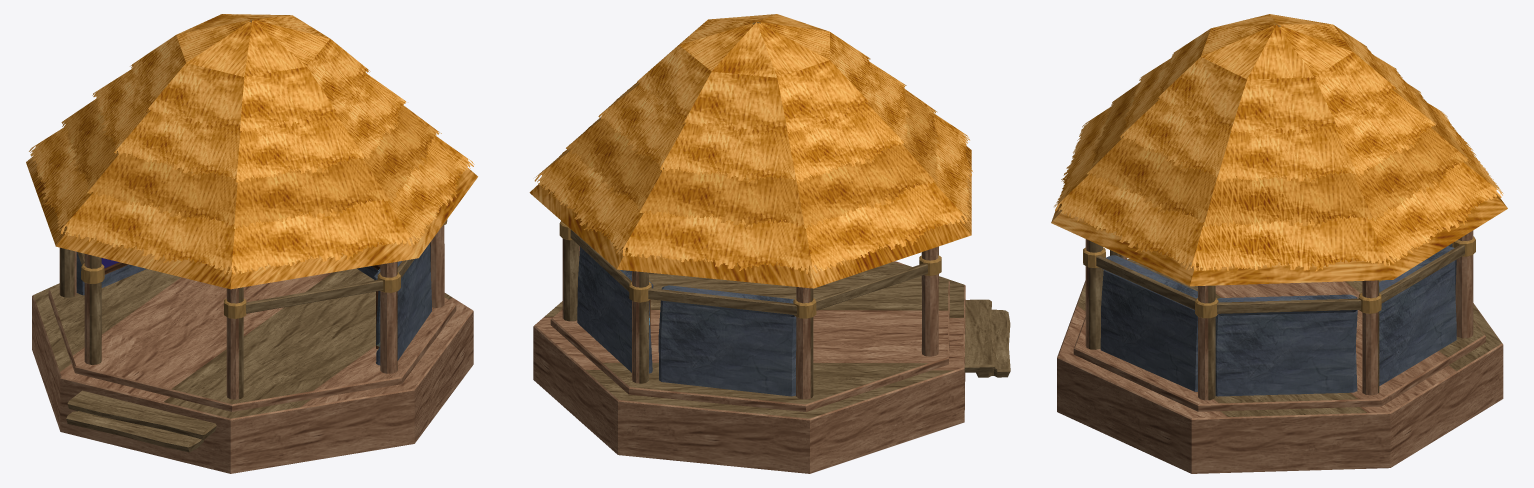
The model's file is s0_AG_Stand_Info_DAO_Art_01.glb.
3 renders of one model, left to right at view 1: azimuth 30°, elevation 25°; view 2: azimuth 150°, elevation 25°; view 3: azimuth 270°, elevation 25°, orthographic.
Visible parts, largest first — view 1: node_AG_Stand_Info_DAO_Art, node_Str_Pannel_Leaderboard_04, node_Str_Pannel_Leaderboard_01; view 2: node_AG_Stand_Info_DAO_Art, node_Str_Pannel_Leaderboard_01, node_Str_Pannel_Leaderboard_02; view 3: node_AG_Stand_Info_DAO_Art, node_Str_Pannel_Leaderboard_03, node_Str_Pannel_Leaderboard_04, node_Str_Pannel_Leaderboard_02.
Part boxes in pixels (x1=…): node_AG_Stand_Info_DAO_Art: x1=26, y1=14, x2=477, y2=473; node_Str_Pannel_Leaderboard_04: x1=374, y1=243, x2=431, y2=365; node_Str_Pannel_Leaderboard_01: x1=76, y1=252, x2=146, y2=295; node_AG_Stand_Info_DAO_Art: x1=529, y1=14, x2=1010, y2=473; node_Str_Pannel_Leaderboard_01: x1=658, y1=285, x2=796, y2=396; node_Str_Pannel_Leaderboard_02: x1=577, y1=247, x2=653, y2=373; node_AG_Stand_Info_DAO_Art: x1=1051, y1=14, x2=1507, y2=473; node_Str_Pannel_Leaderboard_03: x1=1215, y1=294, x2=1357, y2=396; node_Str_Pannel_Leaderboard_04: x1=1100, y1=255, x2=1197, y2=391; node_Str_Pannel_Leaderboard_02: x1=1379, y1=246, x2=1456, y2=385.
Size of what is drawn, in the model's own units: 11.71 by 9.72 by 11.7.
11 materials, 10 textured.
